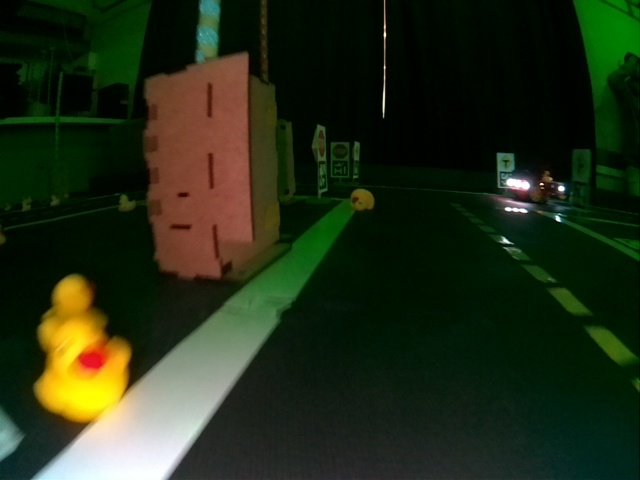Duckie: (34, 322, 130, 422), (38, 276, 106, 351), (350, 189, 375, 210), (119, 195, 135, 211), (543, 170, 551, 181)
Intersection sign: (573, 150, 590, 178), (497, 153, 513, 168)
QR code: (317, 163, 326, 191), (332, 163, 349, 177), (499, 171, 510, 187)
Stop sign: (332, 143, 349, 158), (317, 129, 326, 157)
